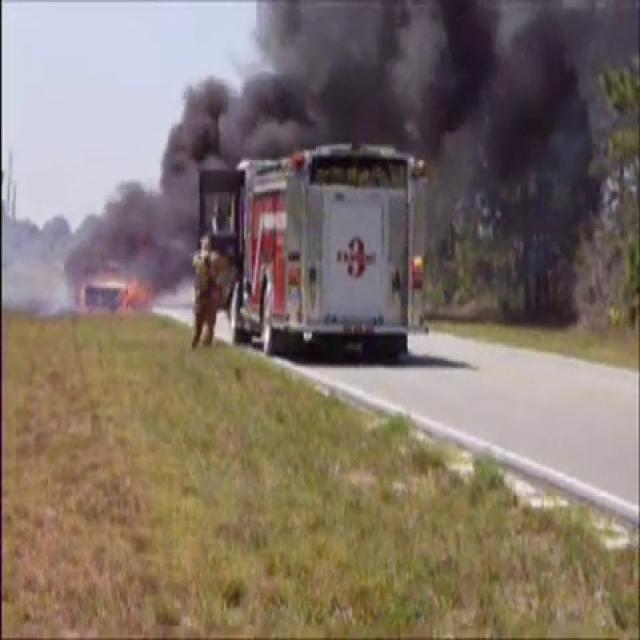Smoke: (212, 0, 640, 256), (51, 166, 170, 307)
